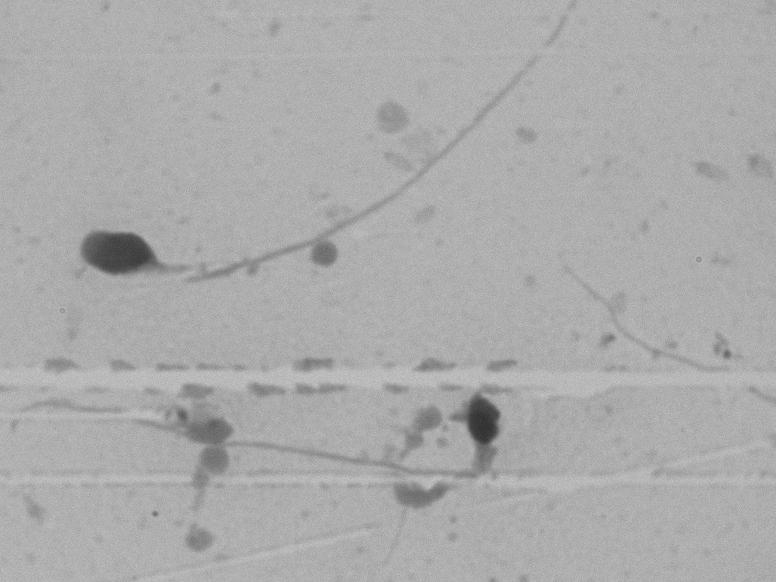Abnormal: (70, 21, 527, 328)
